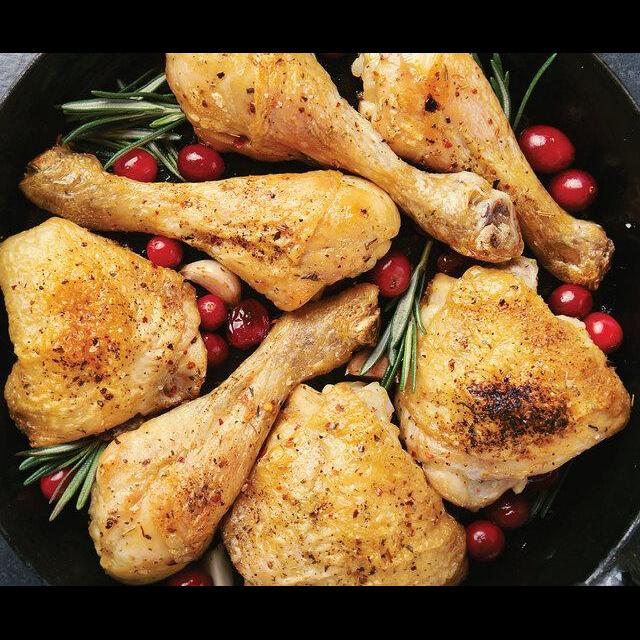thit ga: (84, 278, 384, 586), (160, 54, 528, 270), (16, 137, 404, 316), (341, 54, 622, 294), (387, 252, 637, 516), (213, 378, 471, 586), (0, 213, 212, 457)
